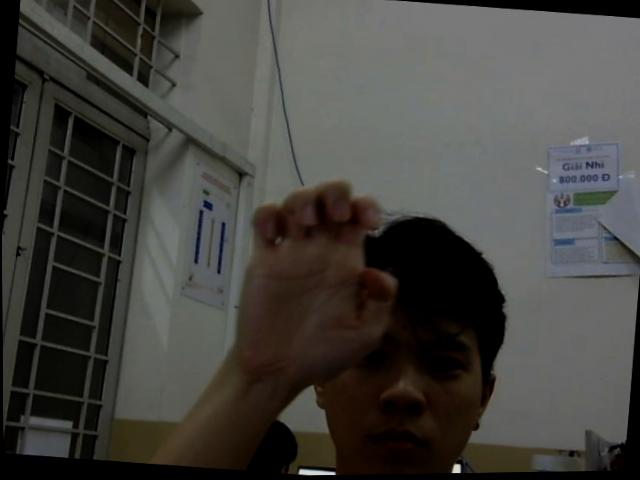E: (231, 169, 405, 390)
